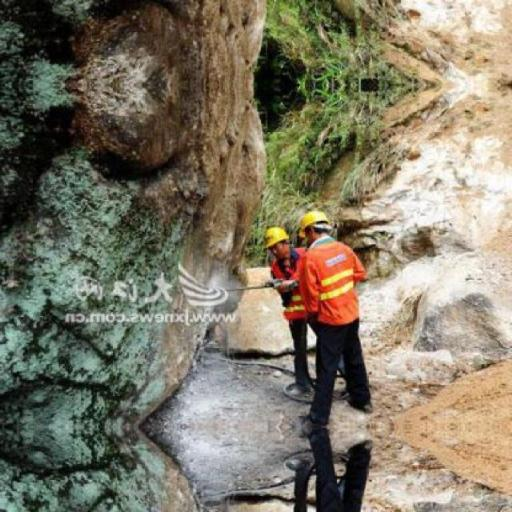Person: (298, 198, 392, 414), (246, 200, 304, 363)
helmet: (298, 204, 336, 234), (258, 220, 288, 254)
vest: (301, 239, 368, 331), (270, 252, 317, 328)
